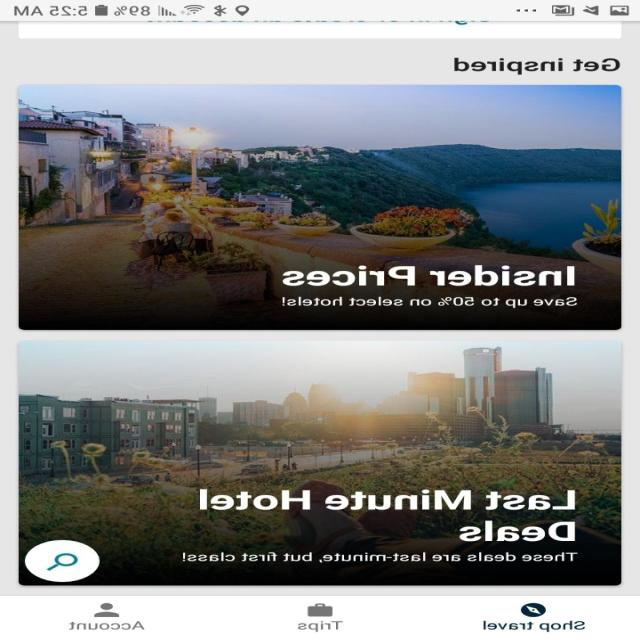Icon: (26, 539, 101, 581), (521, 602, 547, 617), (94, 602, 120, 617), (307, 603, 333, 616)
Image: (20, 84, 622, 330), (20, 340, 622, 586)
Text: (200, 488, 576, 542), (282, 265, 576, 286), (183, 551, 579, 562), (282, 296, 577, 308), (454, 58, 620, 75), (484, 619, 586, 632), (70, 620, 147, 630), (298, 620, 343, 632)
